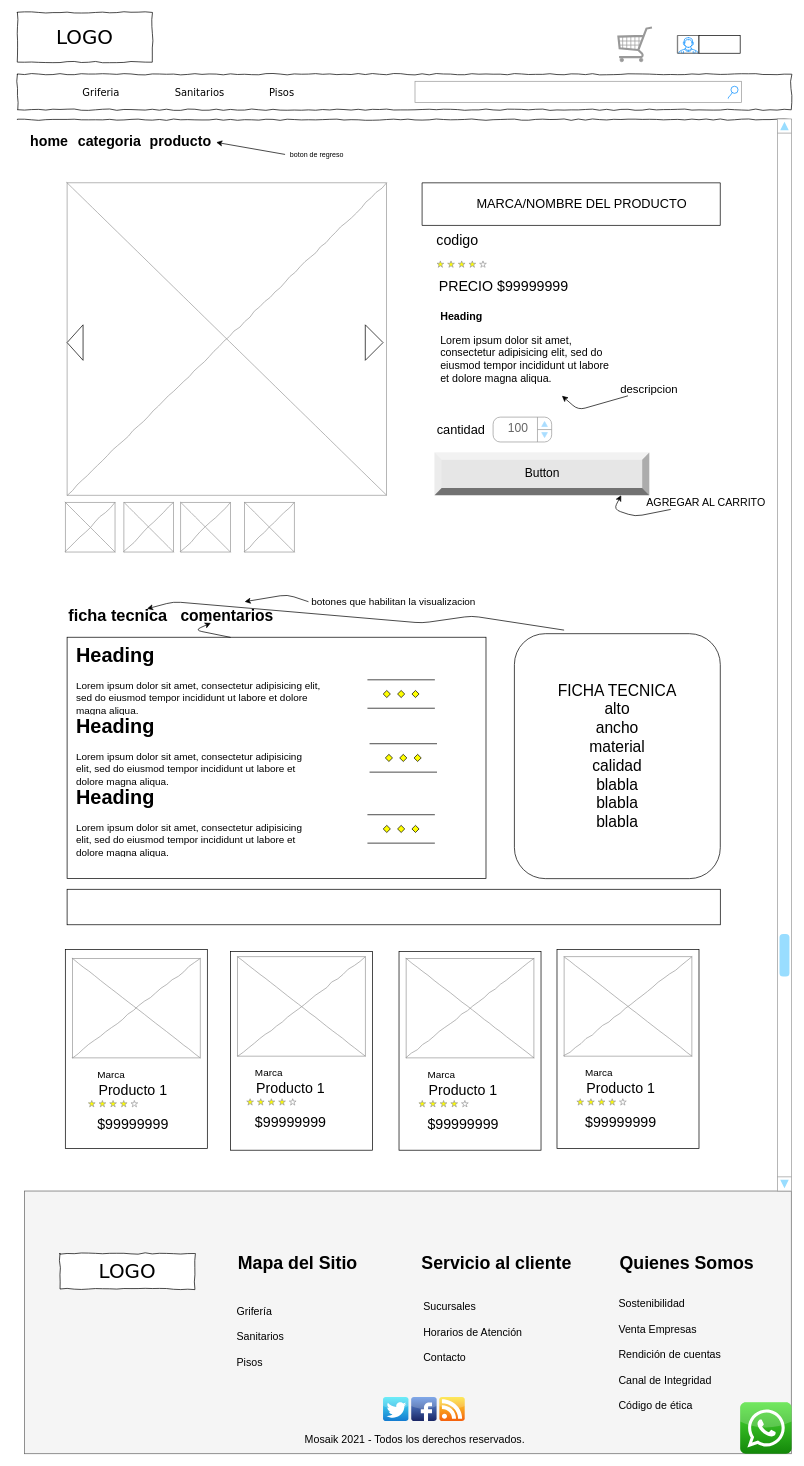
This 804x1466 diagram has some shape labels left out. The shapes that lost their labels are listed below. From the top down, each one's centre as x and y in pixels, then its label:
the point at 719,44: user name
the point at 578,92: Search
the point at 393,907: quizas te pueda interesar
